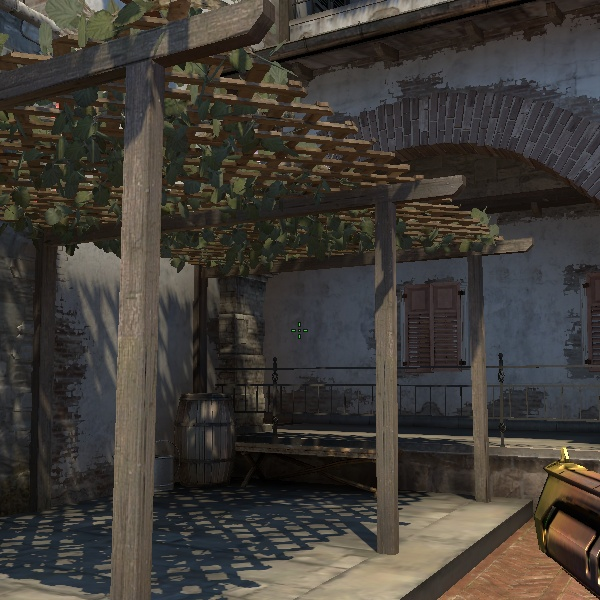ct_head: (104, 3, 300, 107)
